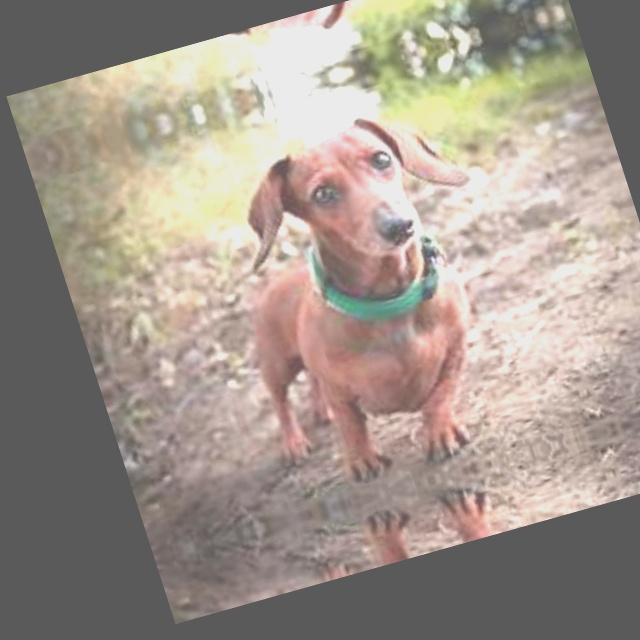dog: (194, 86, 560, 499), (312, 459, 586, 581), (159, 0, 425, 78)
